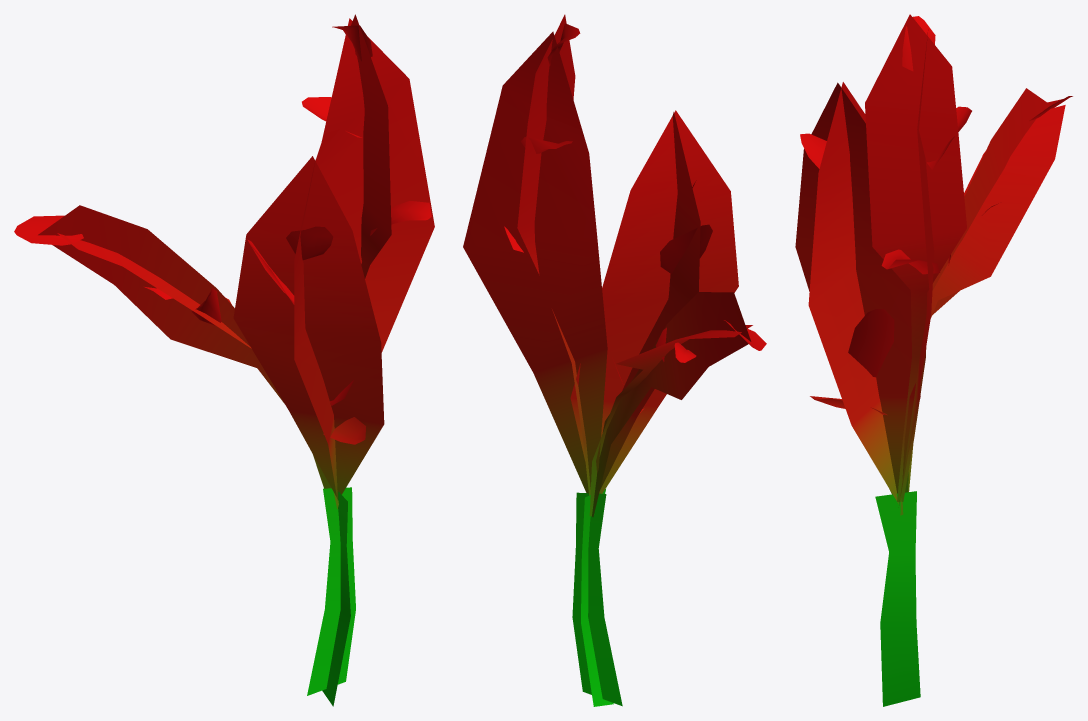
Rendered from Bilberry_LOD0_Var5_vldufeiha.fbx.
The picture shows the model from 3 angles, left to right: view 1: azimuth 30°, elevation 25°; view 2: azimuth 150°, elevation 25°; view 3: azimuth 270°, elevation 25°; orthographic projection. The views are drawn at different scales.
Parts seen in each view (by area): view 1: _gj9z_Var5_LOD0; view 2: _gj9z_Var5_LOD0; view 3: _gj9z_Var5_LOD0.
Boxes of the visible parts, x1,y1,x2,y2 form: _gj9z_Var5_LOD0: [14, 14, 434, 706]; _gj9z_Var5_LOD0: [463, 14, 766, 706]; _gj9z_Var5_LOD0: [795, 14, 1072, 706].
Bounding box in the file's own units: 6.81 × 12.37 × 4.39.
